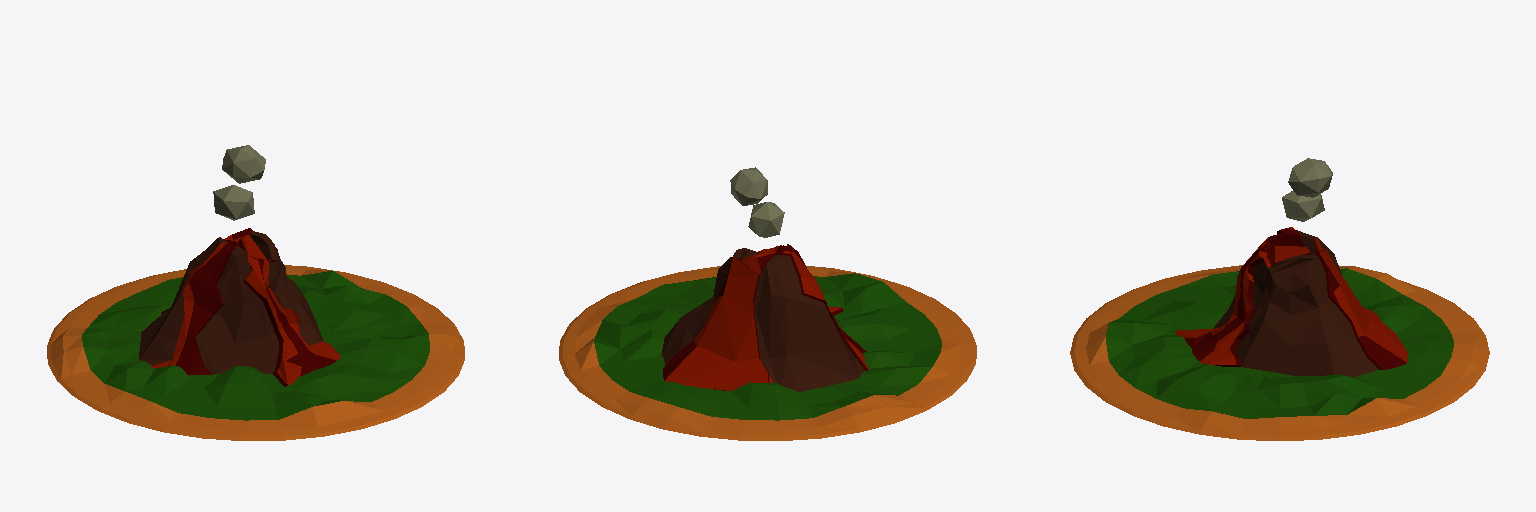
File: Volcano_1230.obj
The picture shows the model from 3 angles: view 1: azimuth 30°, elevation 25°; view 2: azimuth 150°, elevation 25°; view 3: azimuth 270°, elevation 25°; orthographic projection.
Parts seen in each view (by area): view 1: Sphere001; view 2: Sphere001; view 3: Sphere001.
Part boxes in pixels (x1,y1,x2,y2): Sphere001: (47, 145, 464, 440); Sphere001: (559, 167, 976, 440); Sphere001: (1070, 158, 1489, 440).
Size of the model in its own units: 192 by 97.92 by 192.